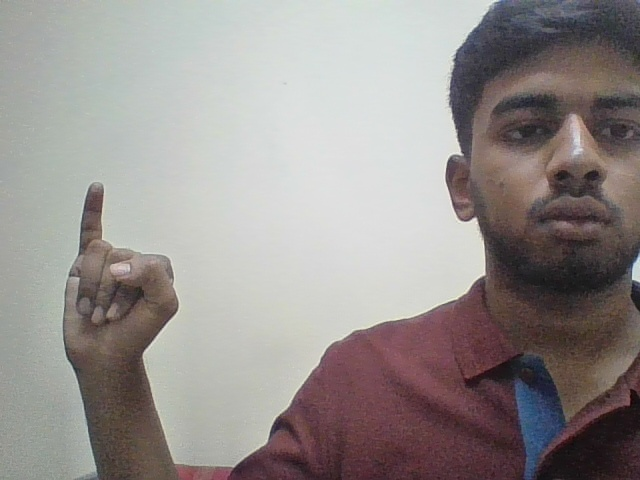I: (54, 164, 184, 392)
